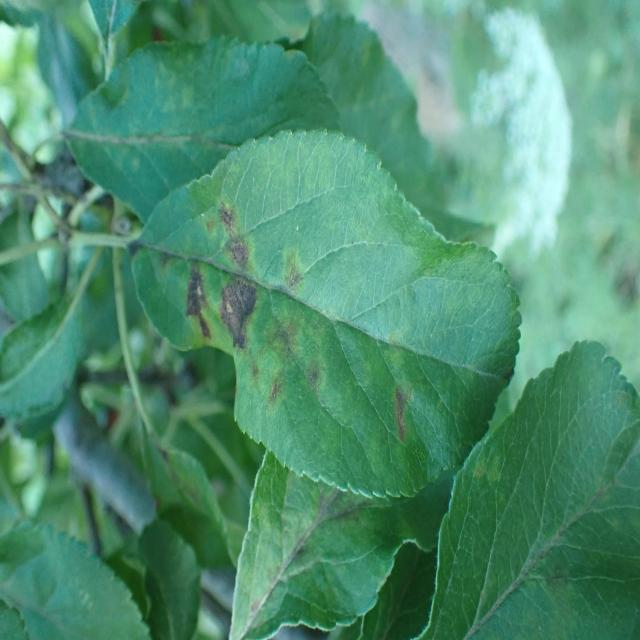scab: (140, 174, 481, 495), (222, 493, 362, 640), (61, 74, 220, 182)
